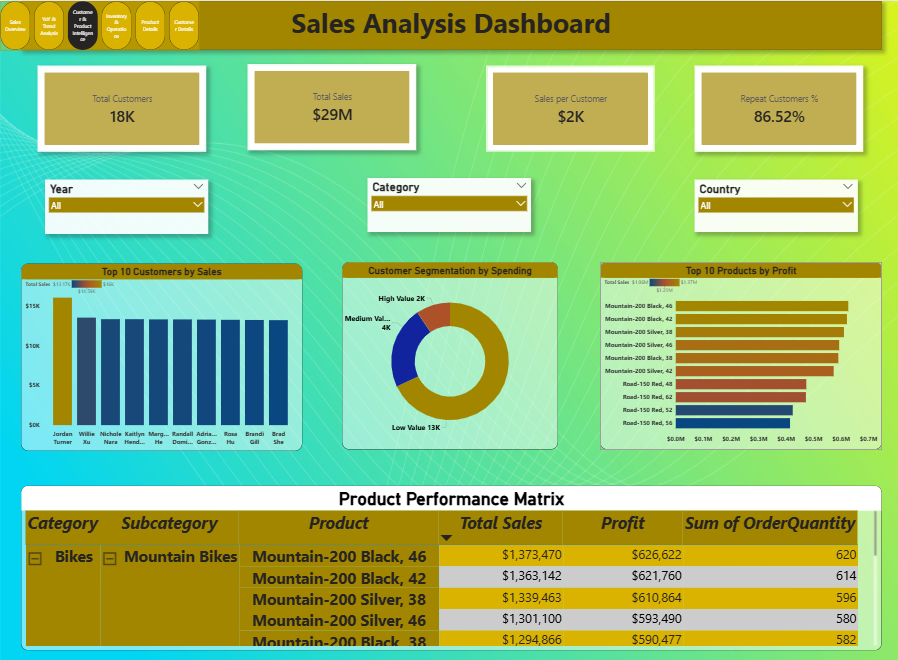

The dashboard page shown, as its layout file describes it:
{"tool":"powerbi","page":{"name":"Customer & Product Intelligence","canvas":[2400,1800],"ordinal":2},"visuals":[{"type":"textbox","box":[55,0,2295,130],"z":0},{"type":"cardVisual","fields":{"Data":["FactInternetSales.Total Sales"]},"box":[660,168,450,230],"z":1000},{"type":"cardVisual","fields":{"Data":["DimCustomer.Sales per Customer"]},"box":[1295,170,450,230],"z":2000},{"type":"cardVisual","fields":{"Data":["DimCustomer.Repeat Customers %"]},"box":[1850,170,450,230],"z":3000},{"type":"barChart","title":"Top 10 Products by Profit","fields":{"Category":["DimProduct.EnglishProductName"],"Y":["FactInternetSales.Profit"]},"box":[1600,696,752,500],"z":4000},{"type":"pivotTable","title":"Product Performance Matrix","fields":{"Rows":["DimProductCategory.EnglishProductCategoryName","DimProductSubcategory.EnglishProductSubcategoryName","DimProduct.EnglishProductName"],"Values":["FactInternetSales.Total Sales","FactInternetSales.Profit","Sum(FactInternetSales.OrderQuantity)"]},"box":[55,1290,2295,440],"z":5000},{"type":"donutChart","title":"Customer Segmentation by Spending","fields":{"Category":["DimCustomer.Customer Segment"],"Y":["DimCustomer.Customer Count"]},"box":[912,696,576,500],"z":6000},{"type":"cardVisual","fields":{"Data":["DimCustomer.Total Customers"]},"box":[100,170,450,230],"z":7000},{"type":"columnChart","title":"Top 10 Customers by Sales","fields":{"Y":["FactInternetSales.Total Sales"],"Category":["DimCustomer.FullName"]},"box":[55,700,750,500],"z":8000},{"type":"slicer","fields":{"Values":["DimDate.Date.Variation.Date Hierarchy.Year"]},"box":[120,475,435,145],"z":9000},{"type":"slicer","fields":{"Values":["DimProductCategory.EnglishProductCategoryName"]},"box":[980,472,436,144],"z":10000},{"type":"slicer","fields":{"Values":["DimSalesTerritory.SalesTerritoryCountry"]},"box":[1850,475,435,140],"z":11000},{"type":"pageNavigator","box":[0,0,532,132],"z":12000}]}

Visuals, with their boxes in screenshot pixels (x1, y1, x2, y2), scaled from the page's 2400x1800 canvas onto the 898x660 screenshot:
textbox: left=21, top=0, right=879, bottom=48
cardVisual - FactInternetSales.Total Sales: left=247, top=62, right=415, bottom=146
cardVisual - DimCustomer.Sales per Customer: left=485, top=62, right=653, bottom=147
cardVisual - DimCustomer.Repeat Customers %: left=692, top=62, right=861, bottom=147
"Top 10 Products by Profit" barChart: left=599, top=255, right=880, bottom=439
"Product Performance Matrix" pivotTable: left=21, top=473, right=879, bottom=634
"Customer Segmentation by Spending" donutChart: left=341, top=255, right=557, bottom=439
cardVisual - DimCustomer.Total Customers: left=37, top=62, right=206, bottom=147
"Top 10 Customers by Sales" columnChart: left=21, top=257, right=301, bottom=440
slicer - DimDate.Date.Variation.Date Hierarchy.Year: left=45, top=174, right=208, bottom=227
slicer - DimProductCategory.EnglishProductCategoryName: left=367, top=173, right=530, bottom=226
slicer - DimSalesTerritory.SalesTerritoryCountry: left=692, top=174, right=855, bottom=225
pageNavigator: left=0, top=0, right=199, bottom=48
